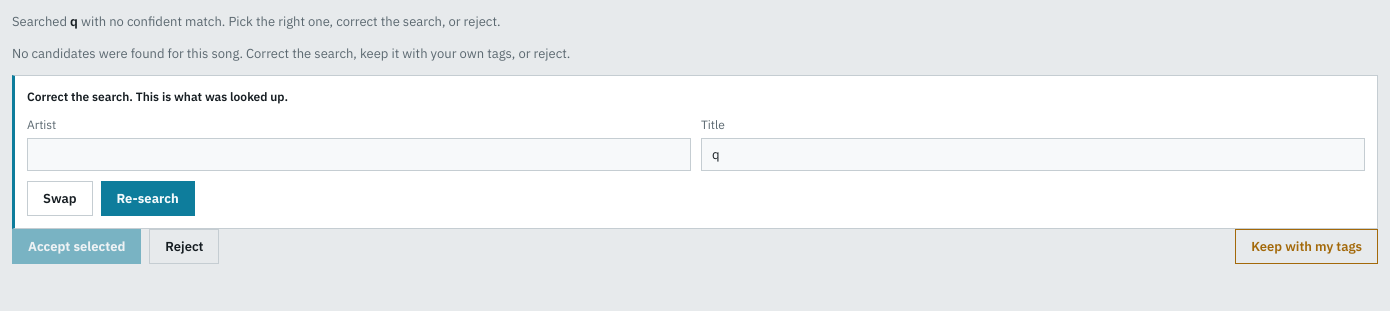
Test case: re-search — correcting the question › a failed search leaves the panel usable, not stuck on "Searching…"
Replace the text in the field labelled "Title" with "Outro" at (1033, 154), box [701,138,1365,171]
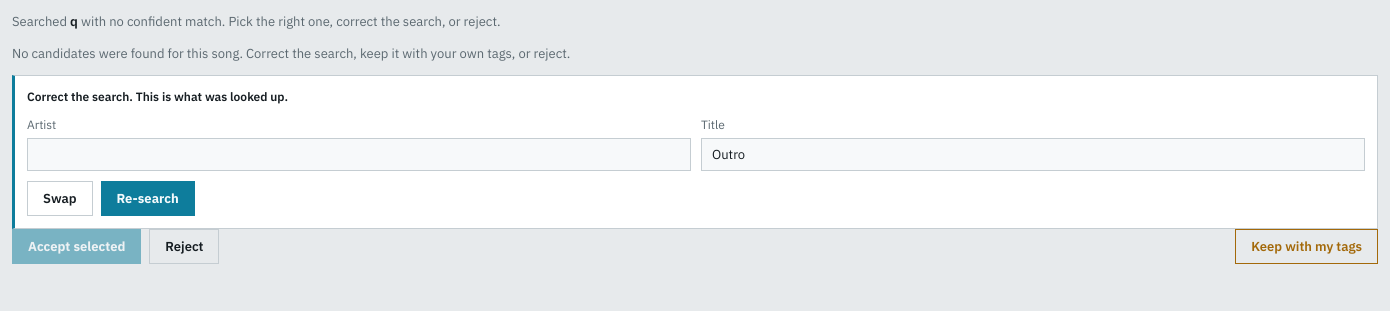
Click the button "Re-search".
click(148, 198)  # box [100,181,195,216]
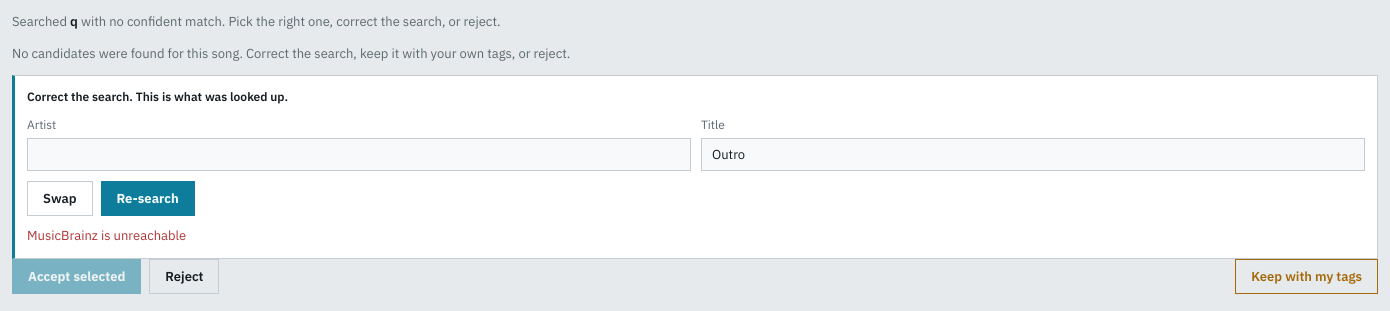
Expected: the text "MusicBrainz is unreachable" is shown, [27,227,186,244]
